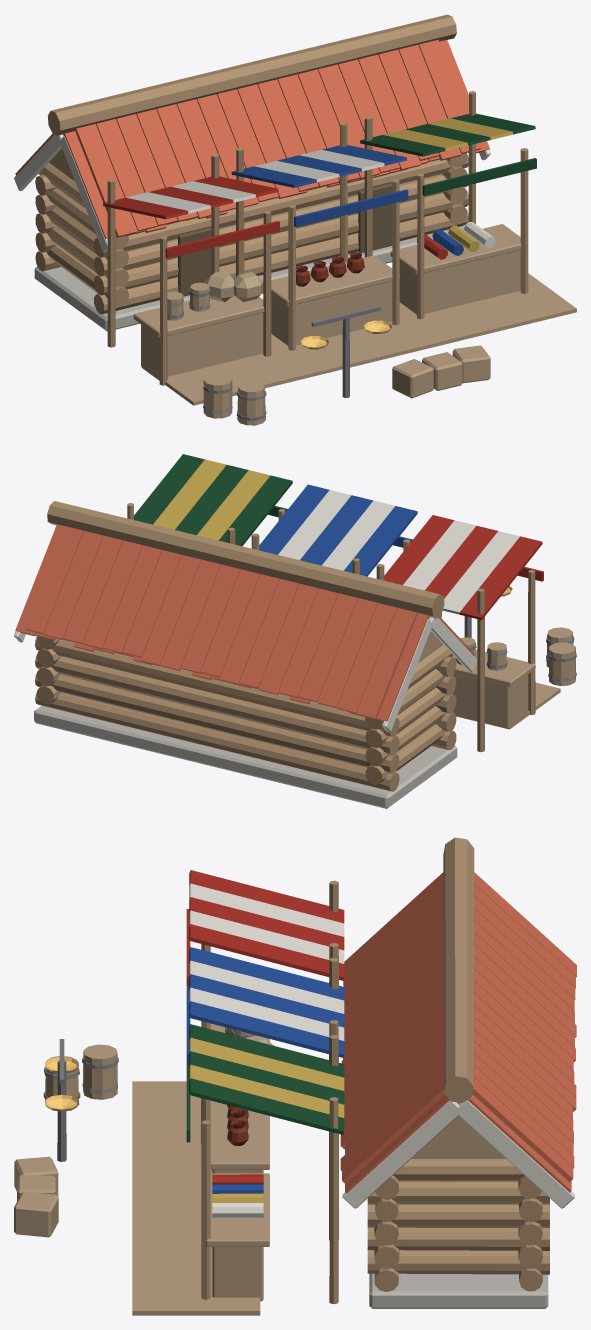
Rendered from bld_market_e1.glb.
3 renders of one model, top to bottom at view 1: azimuth 30°, elevation 25°; view 2: azimuth 150°, elevation 25°; view 3: azimuth 270°, elevation 25°, orthographic. The views are drawn at different scales.
Parts seen in each view (by area): view 1: market; view 2: market; view 3: market.
Part boxes in pixels (x1,y1,x2,y2): market: (14, 14, 576, 425); market: (14, 454, 576, 808); market: (14, 837, 576, 1315).
Bounding box in the file's own units: 1.76 × 0.8419 × 1.76.
